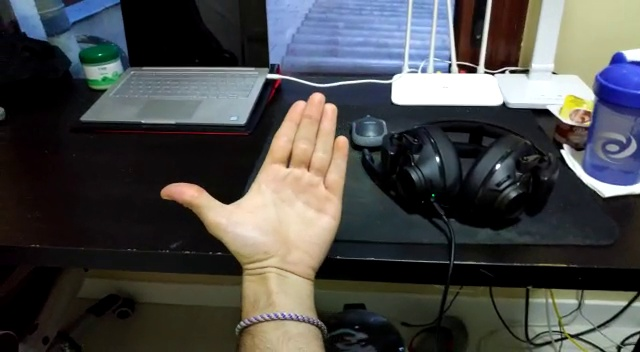Palm: (160, 86, 357, 288)
